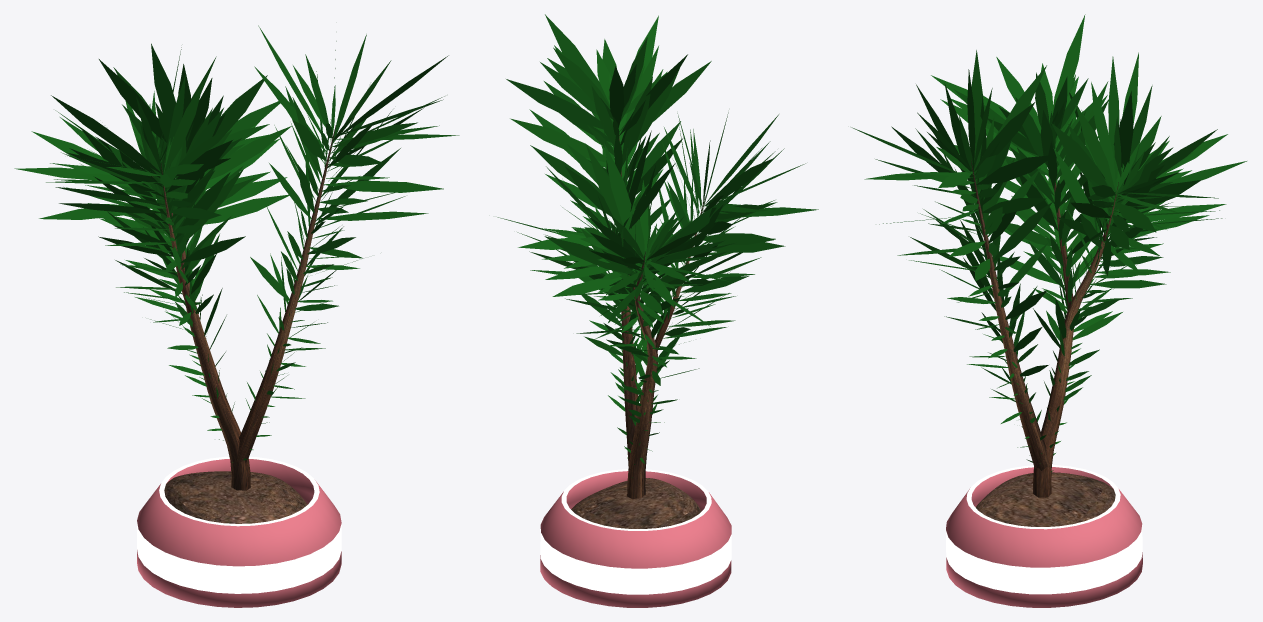
Rendered from small_tree.glb.
3 views of the same model, side by side, from view 1: azimuth 30°, elevation 25°; view 2: azimuth 150°, elevation 25°; view 3: azimuth 270°, elevation 25° (orthographic). The views are drawn at different scales.
Visible parts, largest first — view 1: arbusto; view 2: arbusto; view 3: arbusto.
Part boxes in pixels (left/top/right/bottom): arbusto: left=14, top=25, right=459, bottom=607; arbusto: left=497, top=14, right=818, bottom=607; arbusto: left=851, top=14, right=1246, bottom=607.
Size of the model in its own units: 1.39 by 2.03 by 1.43.
Materials: 5 (2 with a texture image).
